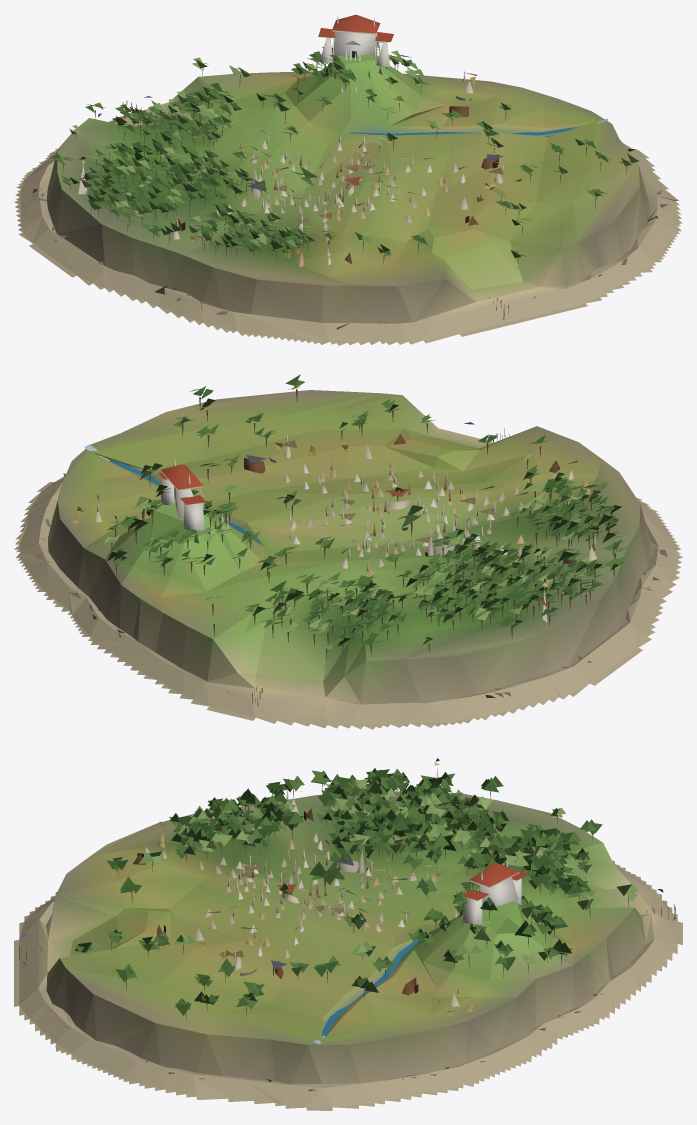
3 views of the same model, one above another, from view 1: azimuth 30°, elevation 25°; view 2: azimuth 150°, elevation 25°; view 3: azimuth 270°, elevation 25° (orthographic). The views are drawn at different scales.
Parts seen in each view (by area): view 1: BASE, VILLE_2, VILLE_3; view 2: BASE, VILLE_2, VILLE_3; view 3: BASE, VILLE_2, VILLE_3.
Part boxes in pixels (x1,y1,x2,y2): BASE: [14, 14, 682, 345]; VILLE_2: [51, 57, 606, 267]; VILLE_3: [171, 131, 461, 265]; BASE: [14, 386, 682, 729]; VILLE_2: [140, 374, 625, 691]; VILLE_3: [281, 454, 597, 576]; BASE: [14, 768, 682, 1110]; VILLE_2: [22, 770, 675, 998]; VILLE_3: [144, 789, 439, 958].
Bounding box in the file's own units: 66 × 14.87 × 64.
